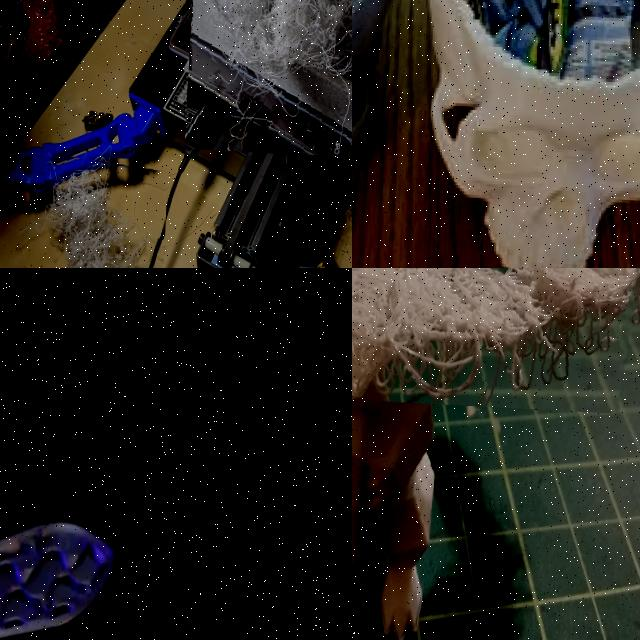spaghetti: (352, 268, 640, 396), (184, 0, 352, 162), (23, 151, 169, 268)
